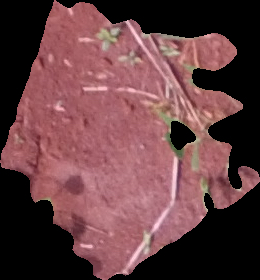soil: (3, 2, 258, 280)
